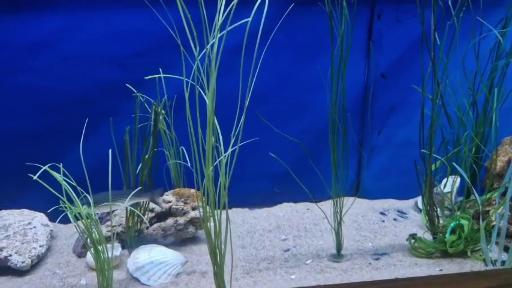Fish: (93, 188, 164, 213)
